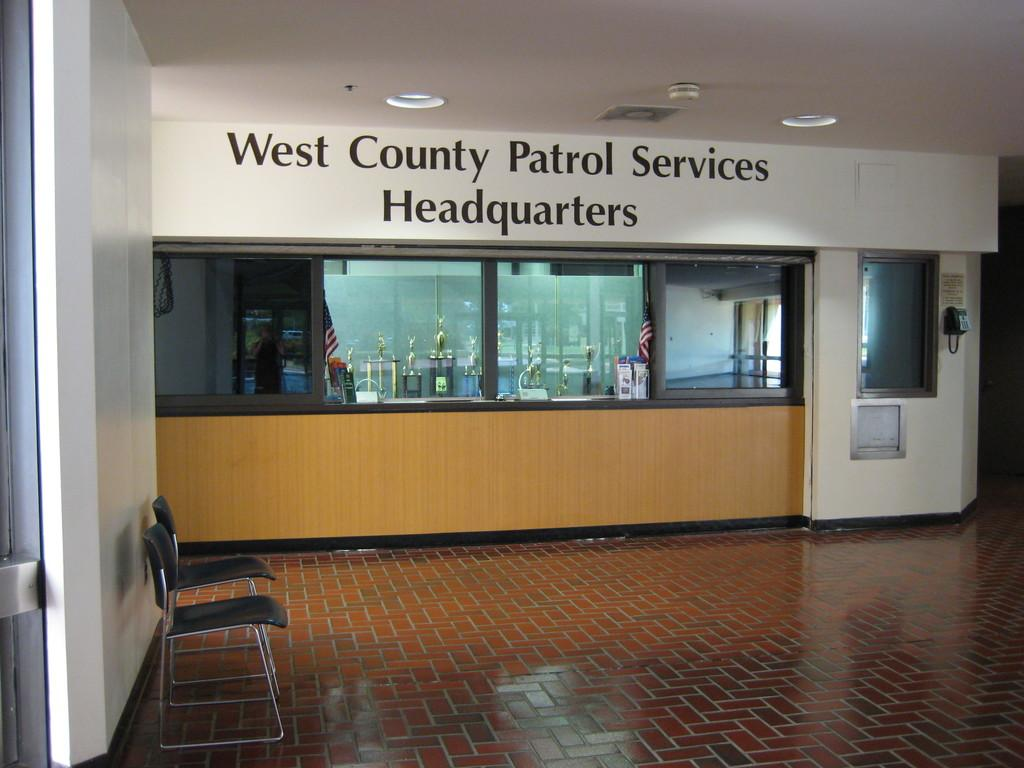Chair: (117, 504, 300, 751)
